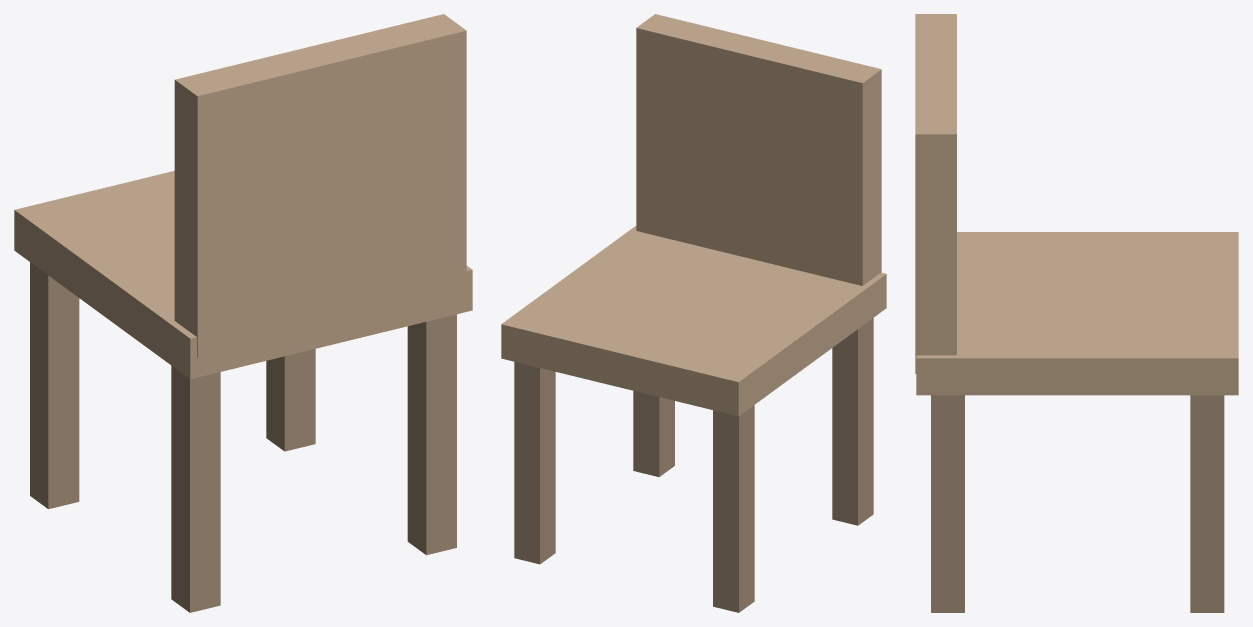
Rendered from chair.glb.
3 views of the same model, side by side, from view 1: azimuth 30°, elevation 25°; view 2: azimuth 150°, elevation 25°; view 3: azimuth 270°, elevation 25° (orthographic). The views are drawn at different scales.
Parts seen in each view (by area): view 1: back_5, seat_0, leg_2, leg_4, leg_1, leg_3; view 2: back_5, seat_0, leg_1, leg_3, leg_2, leg_4; view 3: seat_0, back_5, leg_3, leg_4.
Part boxes in pixels (x1=…): back_5: x1=174, y1=14, x2=466, y2=357; seat_0: x1=14, y1=171, x2=472, y2=379; leg_2: x1=171, y1=366, x2=220, y2=612; leg_4: x1=407, y1=314, x2=456, y2=555; leg_1: x1=30, y1=262, x2=79, y2=509; leg_3: x1=266, y1=349, x2=315, y2=451; back_5: x1=636, y1=14, x2=881, y2=285; seat_0: x1=501, y1=226, x2=886, y2=416; leg_1: x1=713, y1=405, x2=754, y2=612; leg_3: x1=514, y1=362, x2=555, y2=564; leg_2: x1=832, y1=318, x2=873, y2=525; leg_4: x1=633, y1=391, x2=674, y2=476; seat_0: x1=916, y1=232, x2=1238, y2=395; back_5: x1=915, y1=14, x2=956, y2=373; leg_3: x1=1190, y1=395, x2=1224, y2=612; leg_4: x1=931, y1=395, x2=964, y2=612.
Size of the model in its own units: 0.48 by 0.85 by 0.52.
